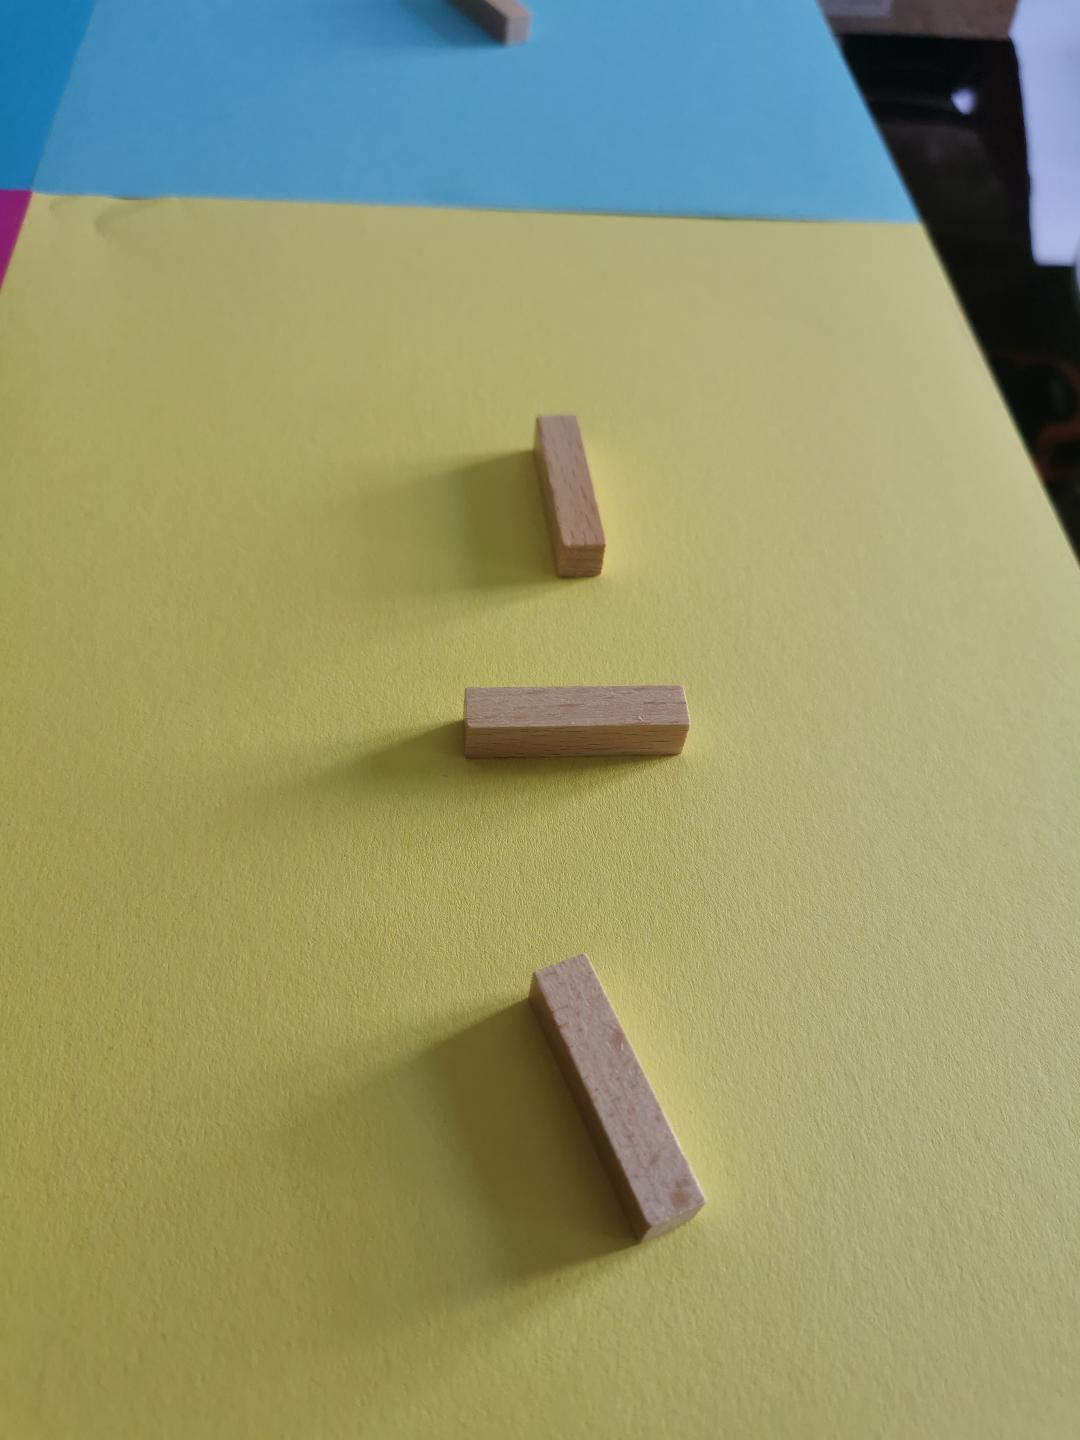jenga: (529, 954, 706, 1240), (464, 686, 689, 760), (534, 416, 605, 576)
